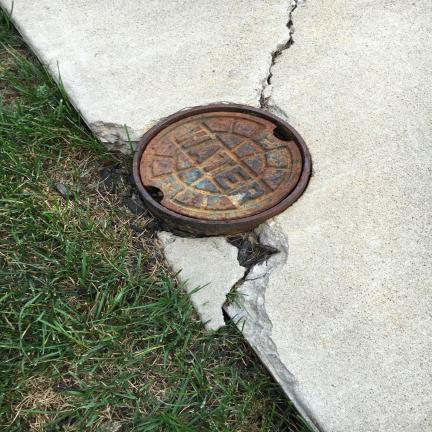karat: (140, 113, 300, 220)
